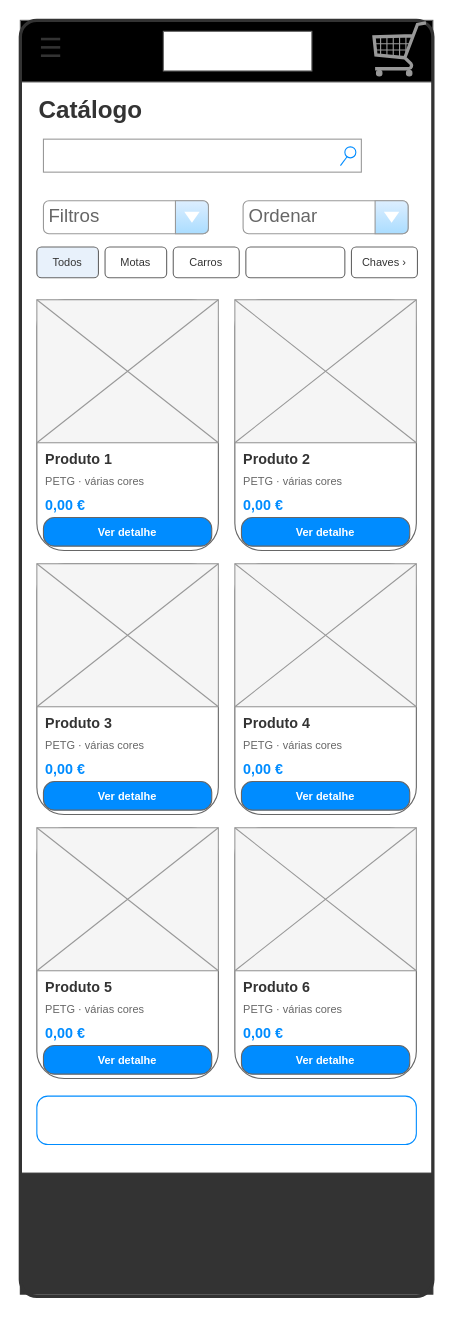
Image size: 453x1317. Some labels were removed from this diagram. The box of each missing label's shape, as (x1, y1, x2, y2) in pixels:
Carregar mais: (36, 1095, 416, 1145)
LOGO MotaPrints: (162, 30, 312, 71)
MotaPrints Início · Sobre Nós · Catálogo · Contactos Instagram @motaprints: (19, 1172, 433, 1294)
Mundial 26: (245, 246, 345, 278)
Pesquisar: (42, 138, 361, 172)
